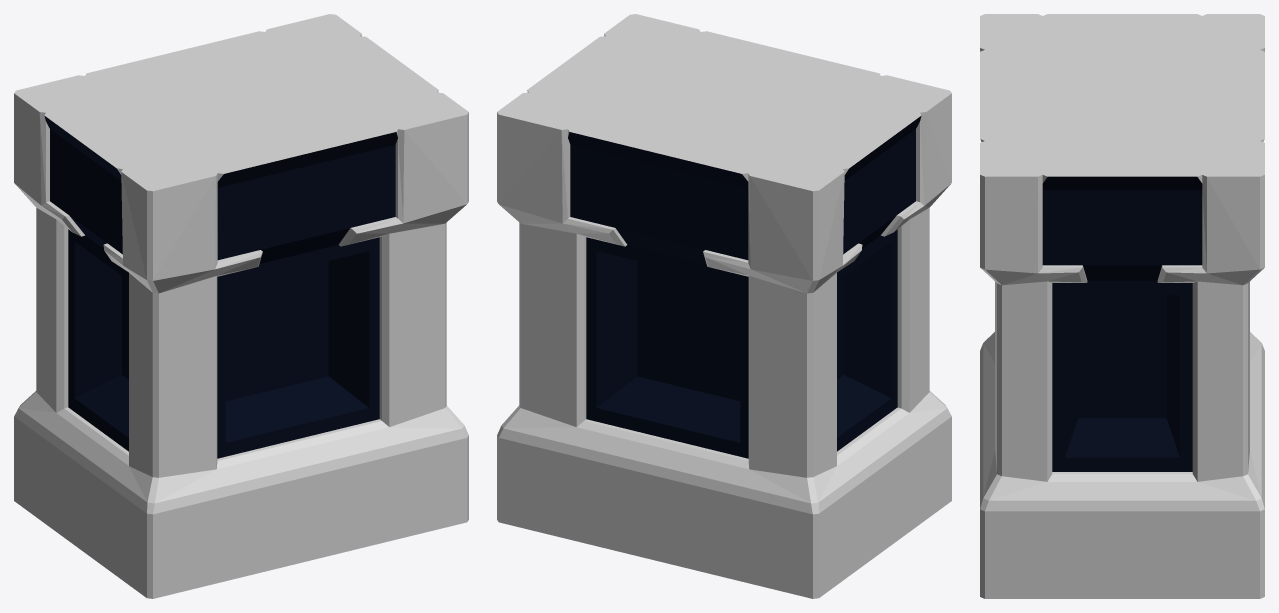
The model's file is OBJ_Arc_triomphe.fbx.
3 views of the same model, side by side, from view 1: azimuth 30°, elevation 25°; view 2: azimuth 150°, elevation 25°; view 3: azimuth 270°, elevation 25° (orthographic). The views are drawn at different scales.
Visible parts, largest first — view 1: Support_arche01; view 2: Support_arche01; view 3: Support_arche01.
Part boxes in pixels (x1,y1,x2,y2): Support_arche01: [14, 14, 468, 598]; Support_arche01: [497, 14, 951, 598]; Support_arche01: [980, 14, 1264, 598].
Bounding box in the file's own units: 2000 × 2420 × 1478.
